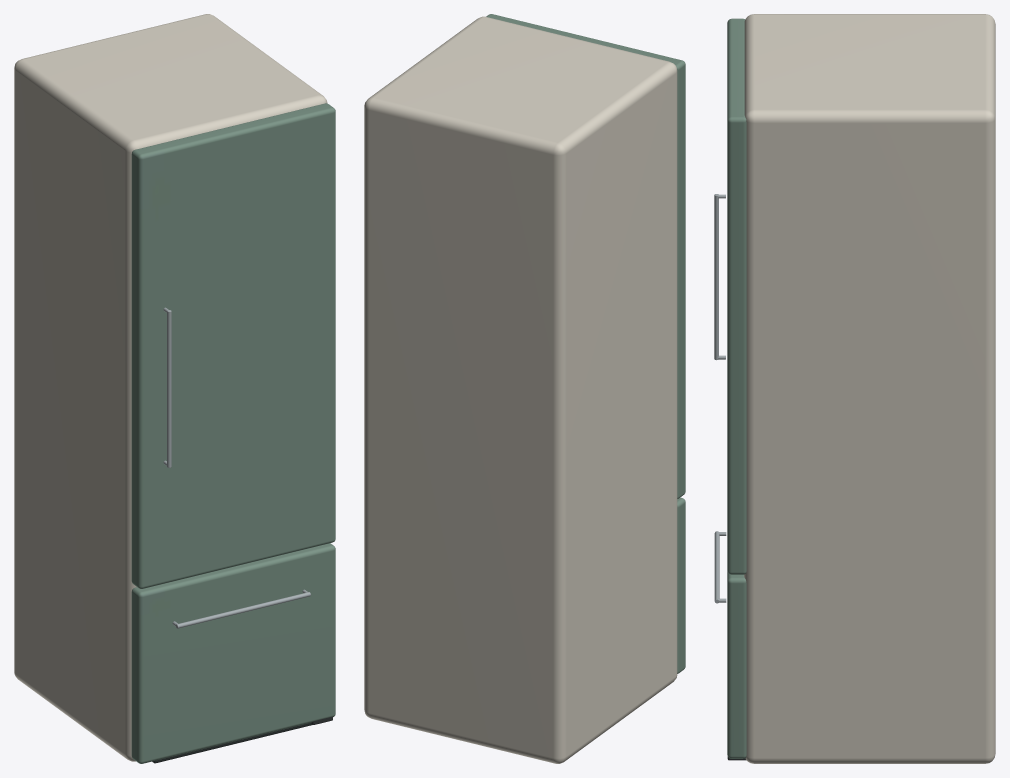
Rendered from universal-fridge-premium.glb.
The picture shows the model from 3 angles, left to right: view 1: azimuth 30°, elevation 25°; view 2: azimuth 150°, elevation 25°; view 3: azimuth 270°, elevation 25°; orthographic projection. The views are drawn at different scales.
Visible parts, largest first — view 1: Insulated refrigerator cabinet, Main refrigerator door, Lower freezer door, Main offset refrigerator pull | grip, Freezer horizontal pull | grip; view 2: Insulated refrigerator cabinet, Main refrigerator door, Lower freezer door; view 3: Insulated refrigerator cabinet, Main refrigerator door, Lower freezer door, Main offset refrigerator pull | grip.
Part boxes in pixels (x1,y1,x2,y2): Insulated refrigerator cabinet: (14,14,327,761); Main refrigerator door: (131,103,335,588); Lower freezer door: (131,543,335,763); Main offset refrigerator pull | grip: (167,310,171,467); Freezer horizontal pull | grip: (176,592,310,628); Insulated refrigerator cabinet: (364,16,677,763); Main refrigerator door: (486,14,685,498); Lower freezer door: (677,497,685,673); Insulated refrigerator cabinet: (744,14,995,763); Main refrigerator door: (727,18,746,574); Lower freezer door: (727,571,746,758); Main offset refrigerator pull | grip: (714,194,718,360).
Size of the model in its own units: 0.615 by 1.82 by 0.7075.
Materials: 6 (6 with a texture image).
